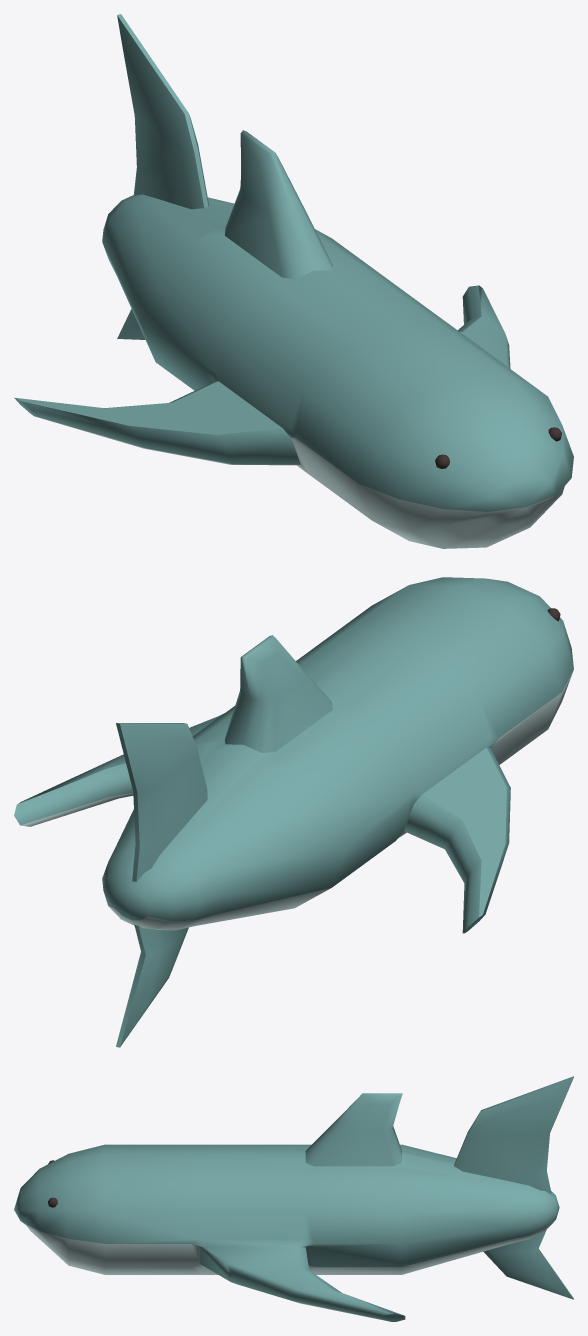
The model's file is Shoork.FBX.
3 views of the same model, one above another, from view 1: azimuth 30°, elevation 25°; view 2: azimuth 150°, elevation 25°; view 3: azimuth 270°, elevation 25° (orthographic). The views are drawn at different scales.
Visible parts, largest first — view 1: OilTank001; view 2: OilTank001; view 3: OilTank001.
Boxes of the visible parts, <box> form: OilTank001: <box>14,14,573,548</box>; OilTank001: <box>14,577,573,1047</box>; OilTank001: <box>14,1076,573,1321</box>.
Size of the model in its own units: 72.6 by 48.59 by 111.
